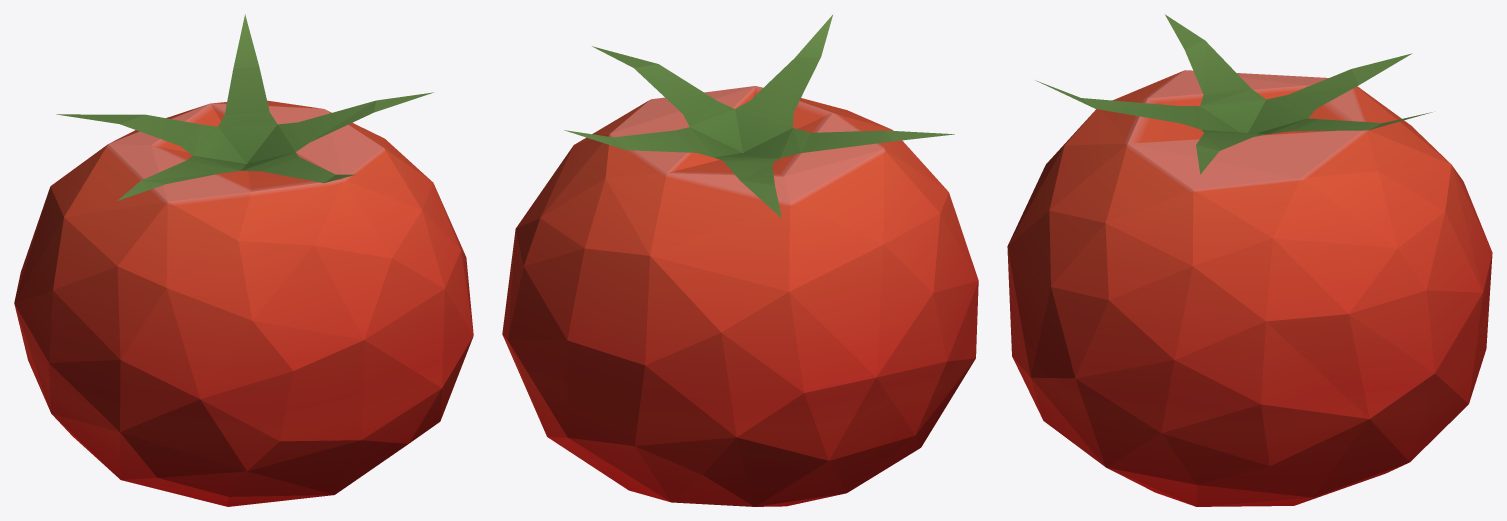
File: SM_Food_Tomato.fbx
3 views of the same model, side by side, from view 1: azimuth 30°, elevation 25°; view 2: azimuth 150°, elevation 25°; view 3: azimuth 270°, elevation 25° (orthographic). The views are drawn at different scales.
Visible parts, largest first — view 1: SM_Food_Tomato; view 2: SM_Food_Tomato; view 3: SM_Food_Tomato.
Part boxes in pixels (<box>): SM_Food_Tomato: <box>14,14,473,506</box>; SM_Food_Tomato: <box>502,15,978,506</box>; SM_Food_Tomato: <box>1007,14,1492,506</box>.
Size of the model in its own units: 18.35 by 16.12 by 18.04.
